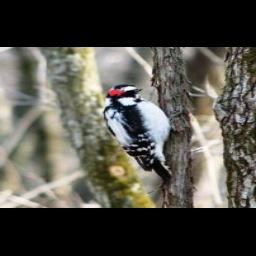Woodpecker: (99, 84, 182, 187)
